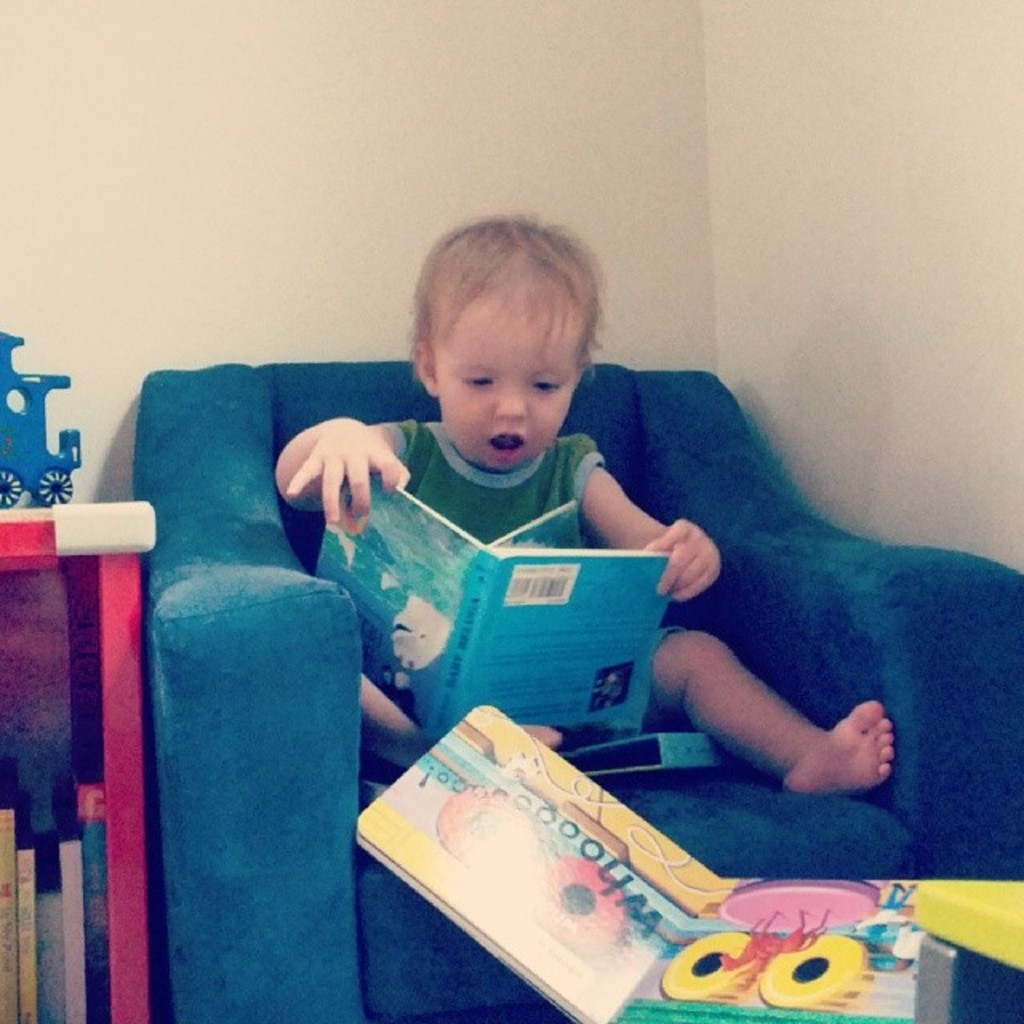Person: (275, 211, 894, 791)
